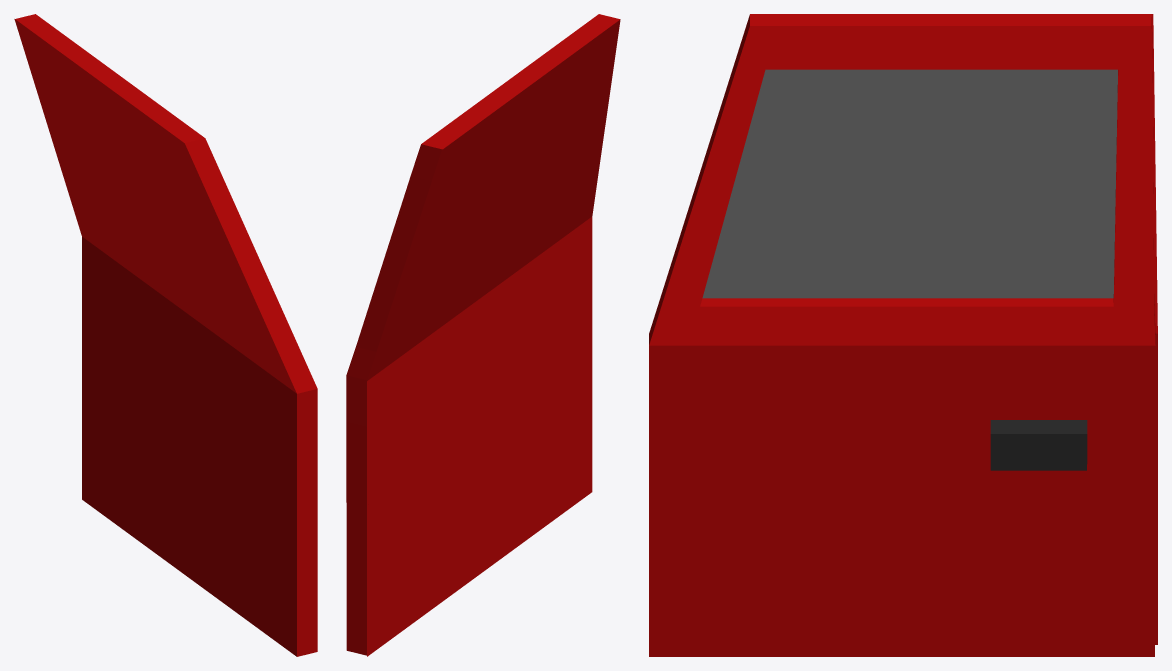
The model's file is CAR_RED_MODEL_LEFTDOOR.fbx.
3 renders of one model, left to right at view 1: azimuth 30°, elevation 25°; view 2: azimuth 150°, elevation 25°; view 3: azimuth 270°, elevation 25°, orthographic. The views are drawn at different scales.
Visible parts, largest first — view 1: CAR_RED_LEFT_HANDLE1; view 2: CAR_RED_LEFT_HANDLE1; view 3: CAR_RED_LEFT_HANDLE1.
Boxes of the visible parts, left/top/right/bottom form: CAR_RED_LEFT_HANDLE1: left=14, top=14, right=317, bottom=656; CAR_RED_LEFT_HANDLE1: left=346, top=14, right=620, bottom=656; CAR_RED_LEFT_HANDLE1: left=649, top=14, right=1157, bottom=656.
Bounding box in the file's own units: 2.79 × 11.66 × 9.1.
